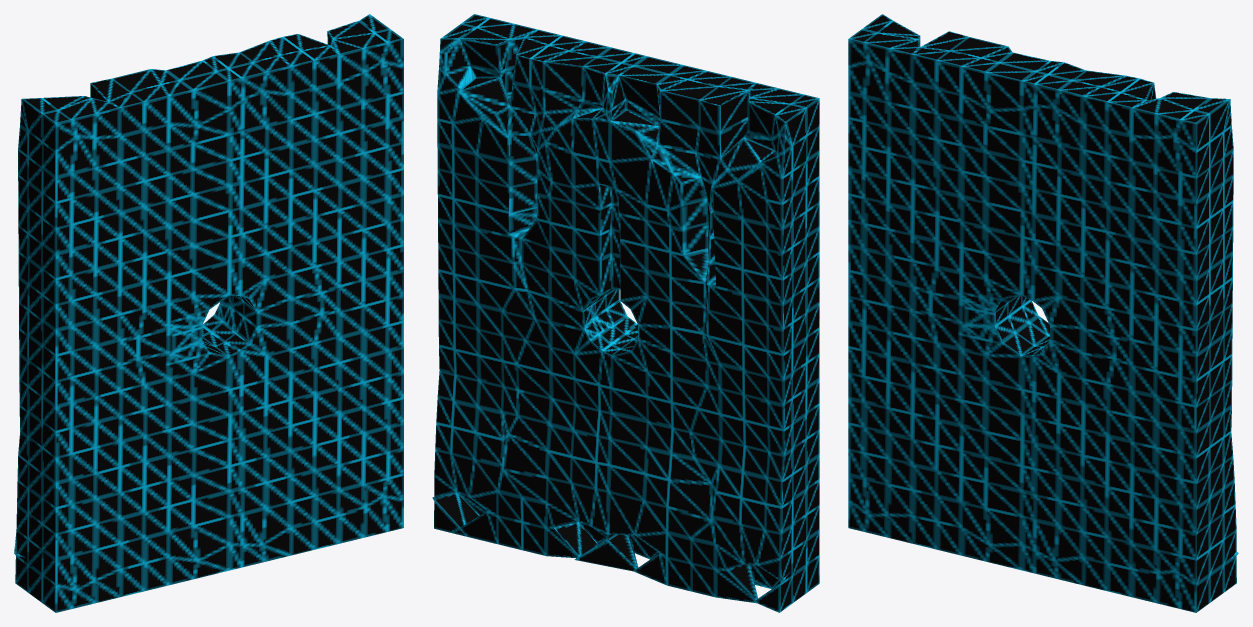
The model's file is Mold1-Cavity retainer plate-M.glb.
3 views of the same model, side by side, from view 1: azimuth 30°, elevation 25°; view 2: azimuth 150°, elevation 25°; view 3: azimuth 330°, elevation 25° (orthographic).
Visible parts, largest first — view 1: empreinte supérieur; view 2: empreinte supérieur; view 3: empreinte supérieur.
Boxes of the visible parts, <box> form: empreinte supérieur: <box>14,14,403,612</box>; empreinte supérieur: <box>432,14,819,612</box>; empreinte supérieur: <box>848,14,1238,612</box>.
Bounding box in the file's own units: 4.5 × 5.99 × 0.932.
Materials: 1 (1 with a texture image).
